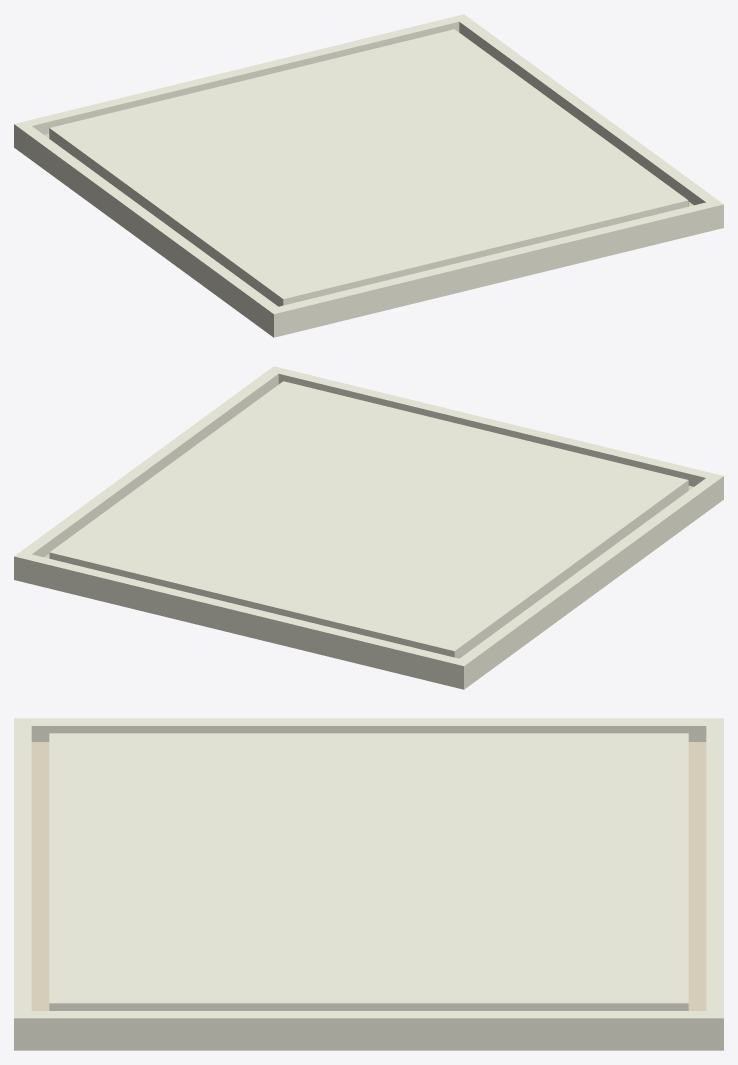
Rendered from tile_floor_undamaged.obj.
The picture shows the model from 3 angles, top to bottom: view 1: azimuth 30°, elevation 25°; view 2: azimuth 150°, elevation 25°; view 3: azimuth 270°, elevation 25°; orthographic projection. The views are drawn at different scales.
Size of the model in its own units: 40 by 2 by 40.
1 material, 1 textured.
